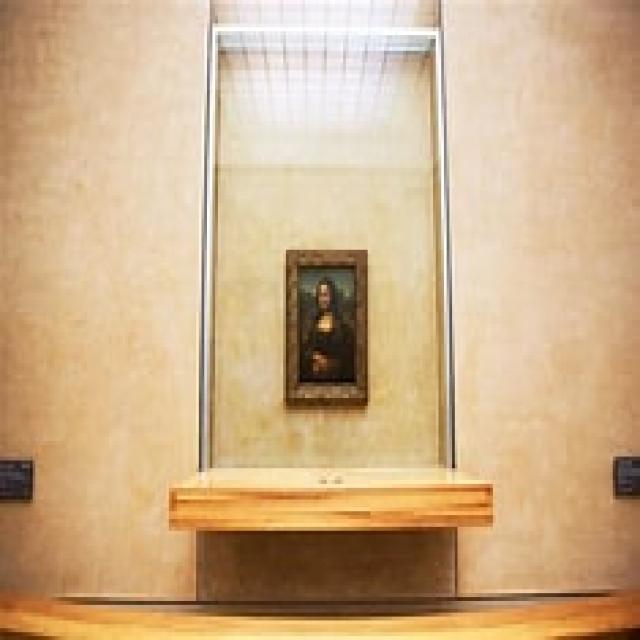monalisa: (291, 252, 368, 404)
